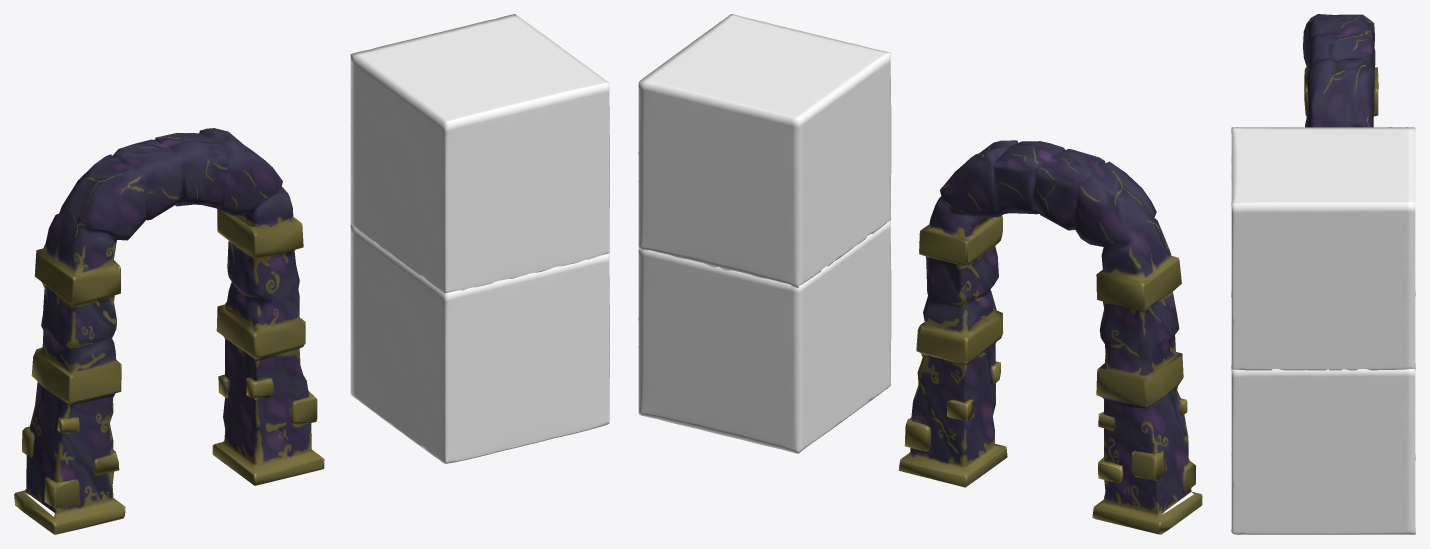
File: wallFramePre.glb
3 views of the same model, side by side, from view 1: azimuth 30°, elevation 25°; view 2: azimuth 150°, elevation 25°; view 3: azimuth 270°, elevation 25° (orthographic). The views are drawn at different scales.
Parts seen in each view (by area): view 1: Mesh_0.014, Mesh_0.001, Mesh_0.002; view 2: Mesh_0.014, Mesh_0.001, Mesh_0.002; view 3: Mesh_0.001, Mesh_0.002, Mesh_0.014.
Part boxes in pixels (<box>): Mesh_0.014: <box>14,128,324,534</box>; Mesh_0.001: <box>350,14,609,293</box>; Mesh_0.002: <box>350,224,609,463</box>; Mesh_0.014: <box>898,140,1202,534</box>; Mesh_0.001: <box>638,14,891,287</box>; Mesh_0.002: <box>638,220,891,453</box>; Mesh_0.001: <box>1231,127,1415,370</box>; Mesh_0.002: <box>1231,292,1415,534</box>; Mesh_0.014: <box>1303,14,1378,127</box>.
Size of the model in its own units: 3.16 by 2.04 by 1.
3 materials, 1 textured.
